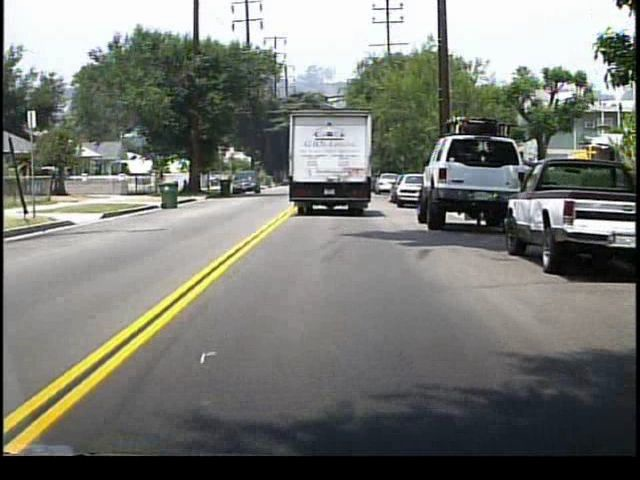person: (157, 168, 168, 195)
